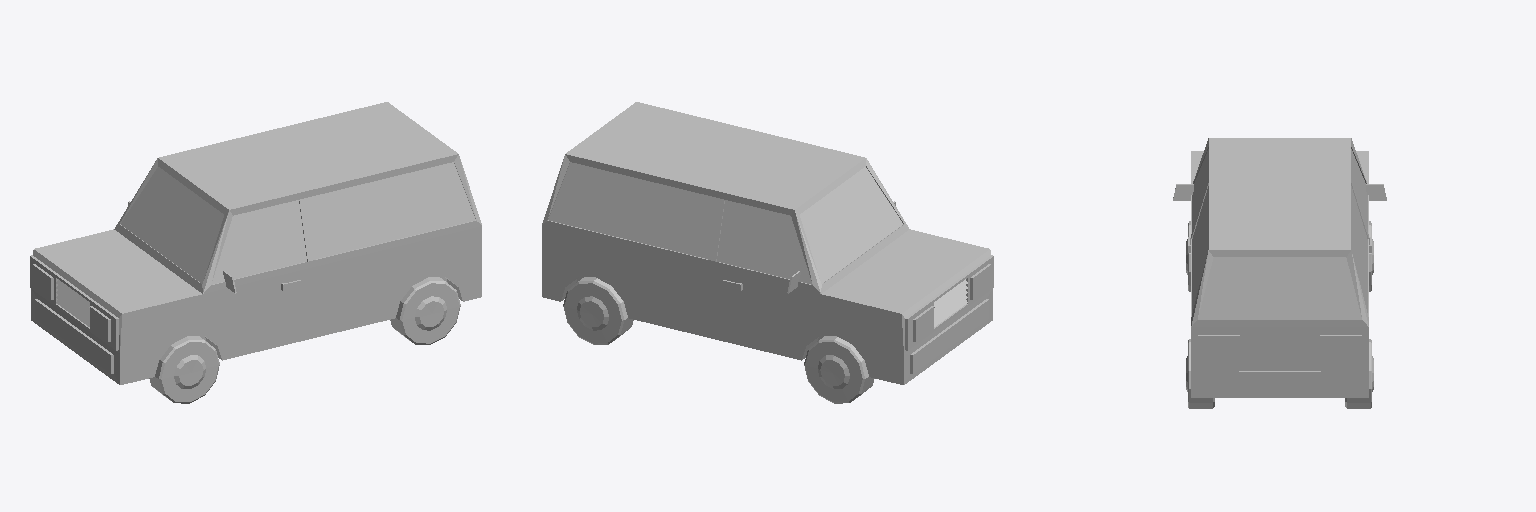
Rendered from carro4.obj.
3 views of the same model, side by side, from view 1: azimuth 30°, elevation 25°; view 2: azimuth 150°, elevation 25°; view 3: azimuth 270°, elevation 25° (orthographic).
Parts seen in each view (by area): view 1: polySurface96; view 2: polySurface96; view 3: polySurface96.
Part boxes in pixels (bbox=[...]): polySurface96: bbox=[30, 102, 481, 403]; polySurface96: bbox=[542, 102, 993, 403]; polySurface96: bbox=[1173, 138, 1386, 408].
Bounding box in the file's own units: 3.62 × 1.63 × 1.81.